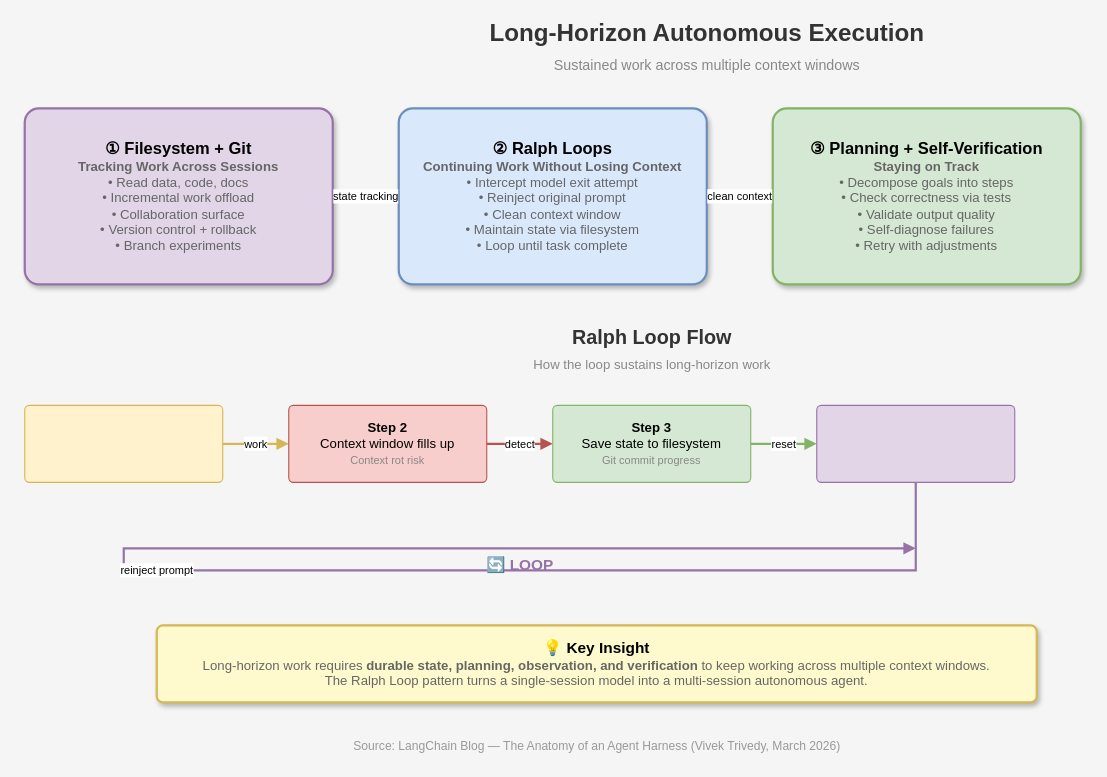
Image size: 1107x777. Some labels were removed from this diagram. Each missing label, with the centre of its shape:
"Step 1 Agent receives task Initial context window" goes at (123,443).
"Step 4 Clean context window Fresh start, full capacity" goes at (915,443).
